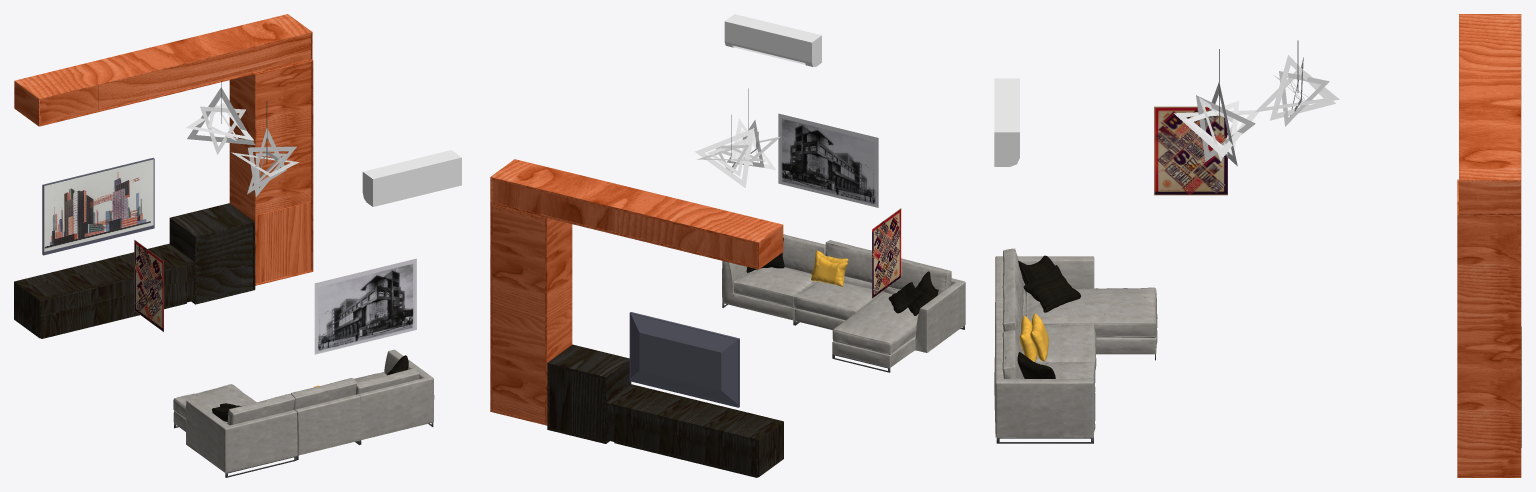
File: guestroom.gltf
The picture shows the model from 3 angles, left to right: view 1: azimuth 30°, elevation 25°; view 2: azimuth 150°, elevation 25°; view 3: azimuth 270°, elevation 25°; orthographic projection. The views are drawn at different scales.
Parts seen in each view (by area): view 1: Guestroom Couch, BRG_TUM_10_02.002, BRG_TUM_3_03.003, DNT_TVT_2_05, Guestroom TV, Guestroom Club Zuev, BRG_TUM_3_03.004, Guestroom Cooler, Guestroom Poster CBS Records, Guestroom Mobile Triangle, Guestroom Mobile Triangle.001; view 2: Guestroom Couch, BRG_TUM_3_03.003, BRG_TUM_10_02.002, DNT_TVT_2_05, Guestroom TV, Guestroom Club Zuev, BRG_TUM_3_03.004, Guestroom Cooler, Guestroom Poster CBS Records, Guestroom Mobile Triangle, Guestroom Mobile Triangle.001; view 3: Guestroom Couch, BRG_TUM_3_03.003, BRG_TUM_10_02.002, Guestroom Poster CBS Records, Guestroom Mobile Triangle.001, Guestroom Cooler, Guestroom Mobile Triangle.
Part boxes in pixels (box(x1,y1,x2,y2)): Guestroom Couch: box(173, 349, 434, 477); BRG_TUM_10_02.002: box(14, 14, 312, 126); BRG_TUM_3_03.003: box(229, 60, 313, 285); DNT_TVT_2_05: box(14, 243, 194, 338); Guestroom TV: box(42, 157, 154, 255); Guestroom Club Zuev: box(314, 258, 416, 354); BRG_TUM_3_03.004: box(169, 203, 255, 304); Guestroom Cooler: box(362, 150, 461, 206); Guestroom Poster CBS Records: box(134, 240, 163, 331); Guestroom Mobile Triangle: box(186, 87, 255, 154); Guestroom Mobile Triangle.001: box(231, 128, 298, 196); Guestroom Couch: box(722, 234, 965, 372); BRG_TUM_3_03.003: box(490, 204, 572, 425); BRG_TUM_10_02.002: box(490, 159, 783, 269); DNT_TVT_2_05: box(606, 384, 783, 477); Guestroom TV: box(629, 312, 739, 407); Guestroom Club Zuev: box(778, 113, 878, 207); BRG_TUM_3_03.004: box(547, 344, 631, 443); Guestroom Cooler: box(724, 14, 821, 66); Guestroom Poster CBS Records: box(872, 208, 901, 298); Guestroom Mobile Triangle: box(695, 128, 764, 187); Guestroom Mobile Triangle.001: box(720, 118, 780, 170); Guestroom Couch: box(994, 248, 1157, 443); BRG_TUM_3_03.003: box(1457, 179, 1521, 477); BRG_TUM_10_02.002: box(1459, 14, 1521, 214); Guestroom Poster CBS Records: box(1154, 106, 1227, 195); Guestroom Mobile Triangle.001: box(1174, 82, 1258, 166); Guestroom Cooler: box(994, 78, 1019, 166); Guestroom Mobile Triangle: box(1254, 55, 1339, 126).
Size of the model in its own units: 3.08 by 3 by 4.12.
11 materials, 8 textured.
